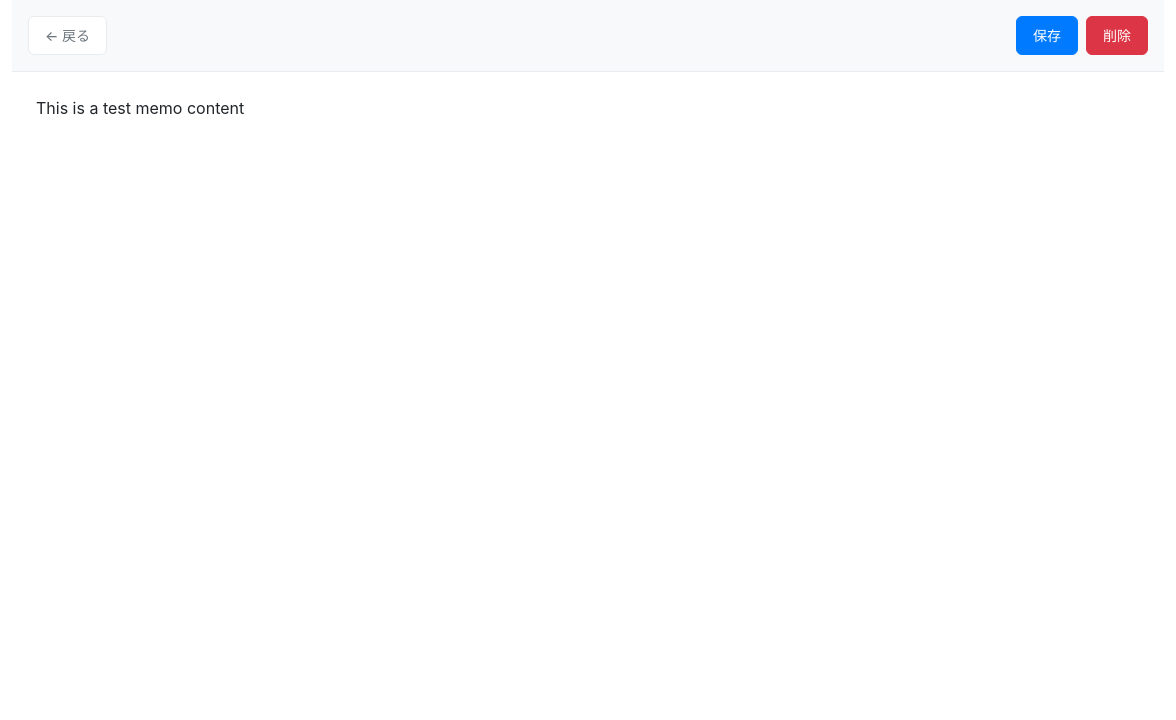
Test: MemoEditor › Auto-save functionality › disables buttons during save operation
The image size is (1176, 720).
Change content to trigger auto-save
Replace the text in the text box named "メモ内容" with "Content for save test" at (588,396), box [12,72,1164,719]
Wait 500 ms
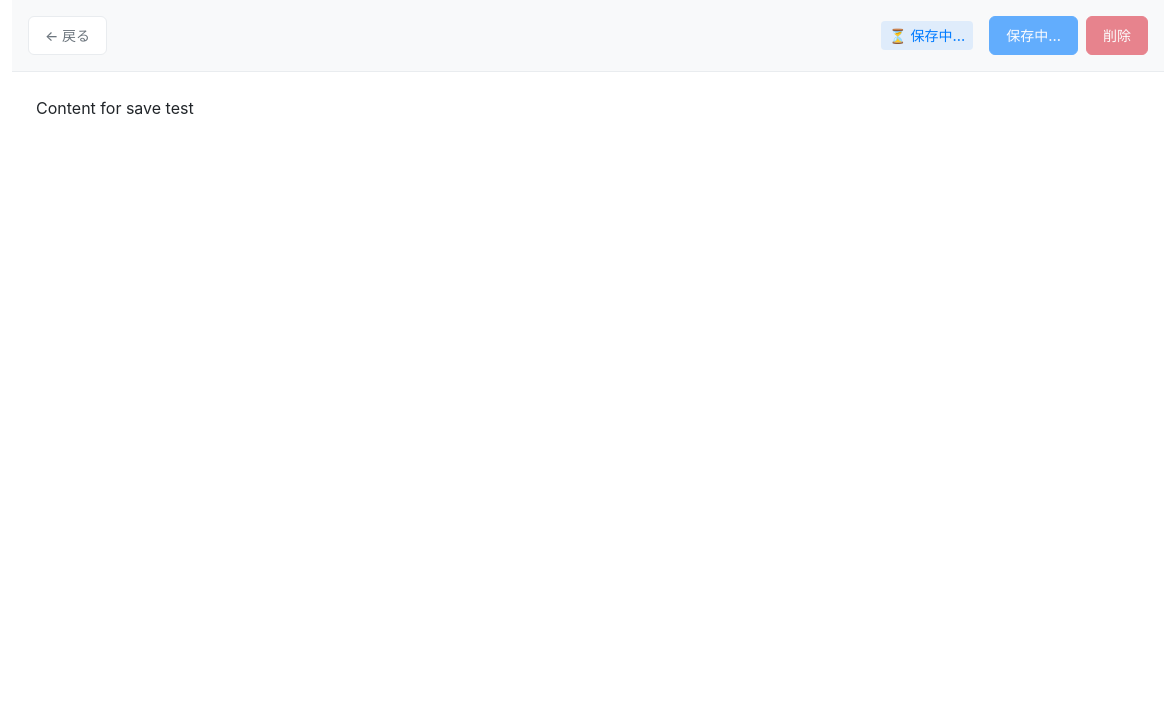
expect the button "保存中..." is disabled: met, box [989,16,1078,55]
expect the button "削除" is disabled: met, box [1086,16,1148,55]
